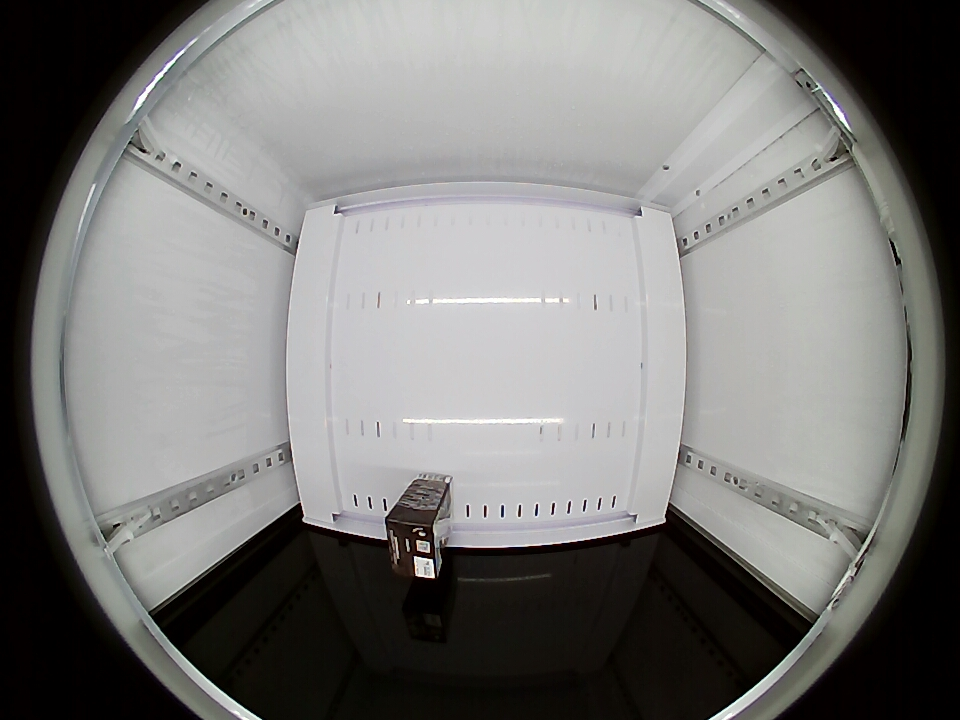weitanai2: (386, 505, 446, 579)
